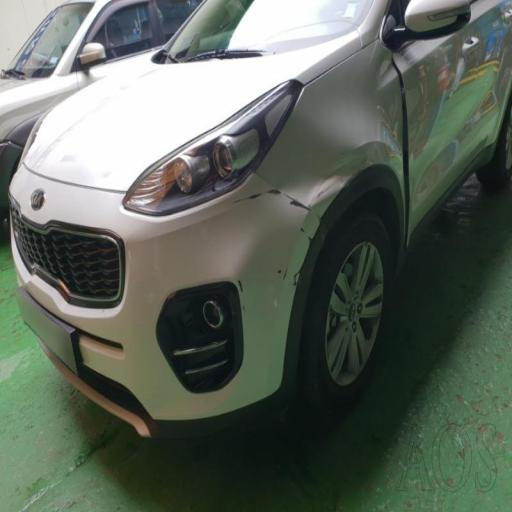dent: (212, 147, 385, 303), (378, 54, 456, 168)
